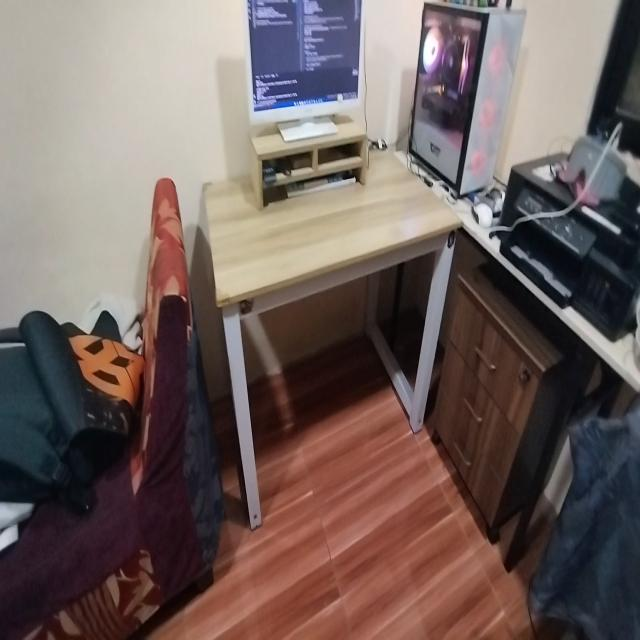table: (201, 147, 455, 494)
